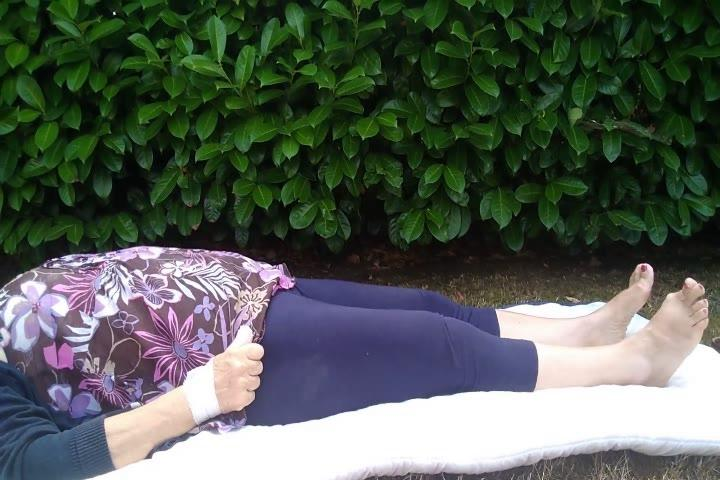lower_body: (237, 249, 714, 436)
